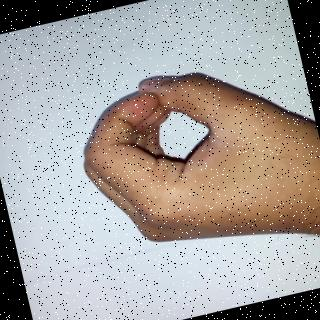O: (44, 45, 320, 265)
